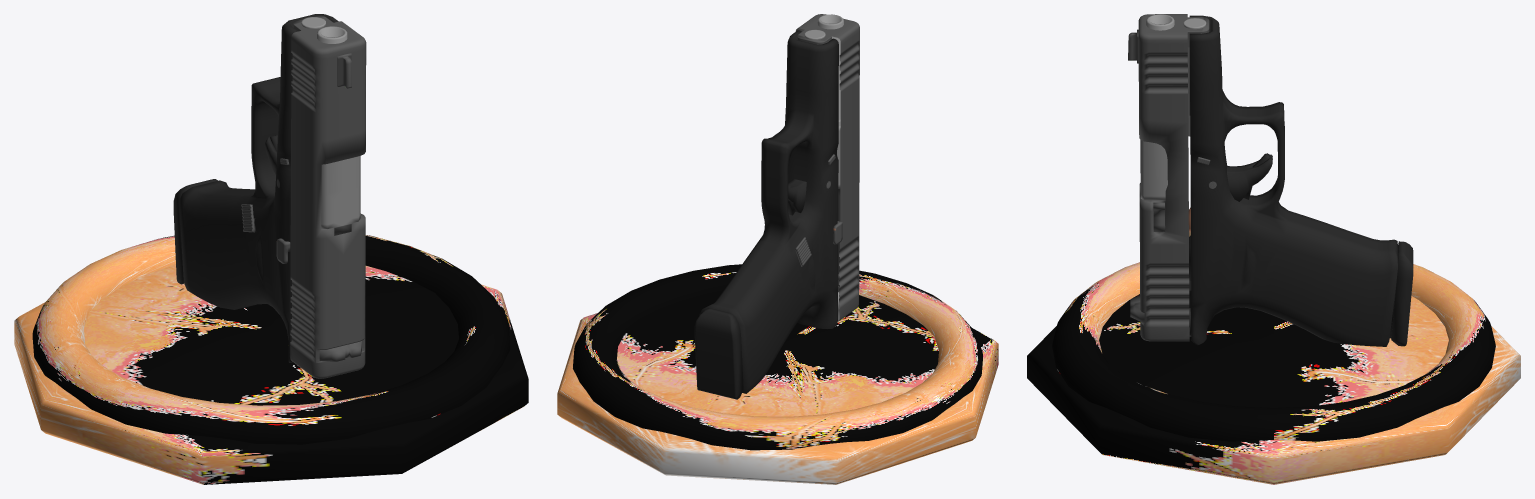
File: weapon_pistol.glb
The picture shows the model from 3 angles, left to right: view 1: azimuth 30°, elevation 25°; view 2: azimuth 150°, elevation 25°; view 3: azimuth 270°, elevation 25°; orthographic projection. The views are drawn at different scales.
Visible parts, largest first — view 1: Capsule, Torus, Gun_Slide003, Gun_Body003, Magazine001; view 2: Capsule, Torus, Gun_Body003, Gun_Slide003, Magazine001; view 3: Capsule, Gun_Body003, Torus, Gun_Slide003, Magazine001.
Boxes of the visible parts, x1,y1,x2,y2 form: Capsule: (14,264,528,484); Torus: (32,235,510,444); Gun_Slide003: (290,15,366,378); Gun_Body003: (179,14,338,362); Magazine001: (173,17,325,284); Capsule: (557,290,998,484); Torus: (573,264,982,450); Gun_Body003: (699,30,839,393); Gun_Slide003: (795,14,859,321); Magazine001: (694,29,842,399); Capsule: (1027,294,1520,484); Gun_Body003: (1189,15,1397,346); Torus: (1052,262,1495,441); Gun_Slide003: (1128,14,1209,341); Magazine001: (1183,18,1413,346).
Size of the model in its own units: 2 by 1.7 by 2.
5 materials, 5 textured.
